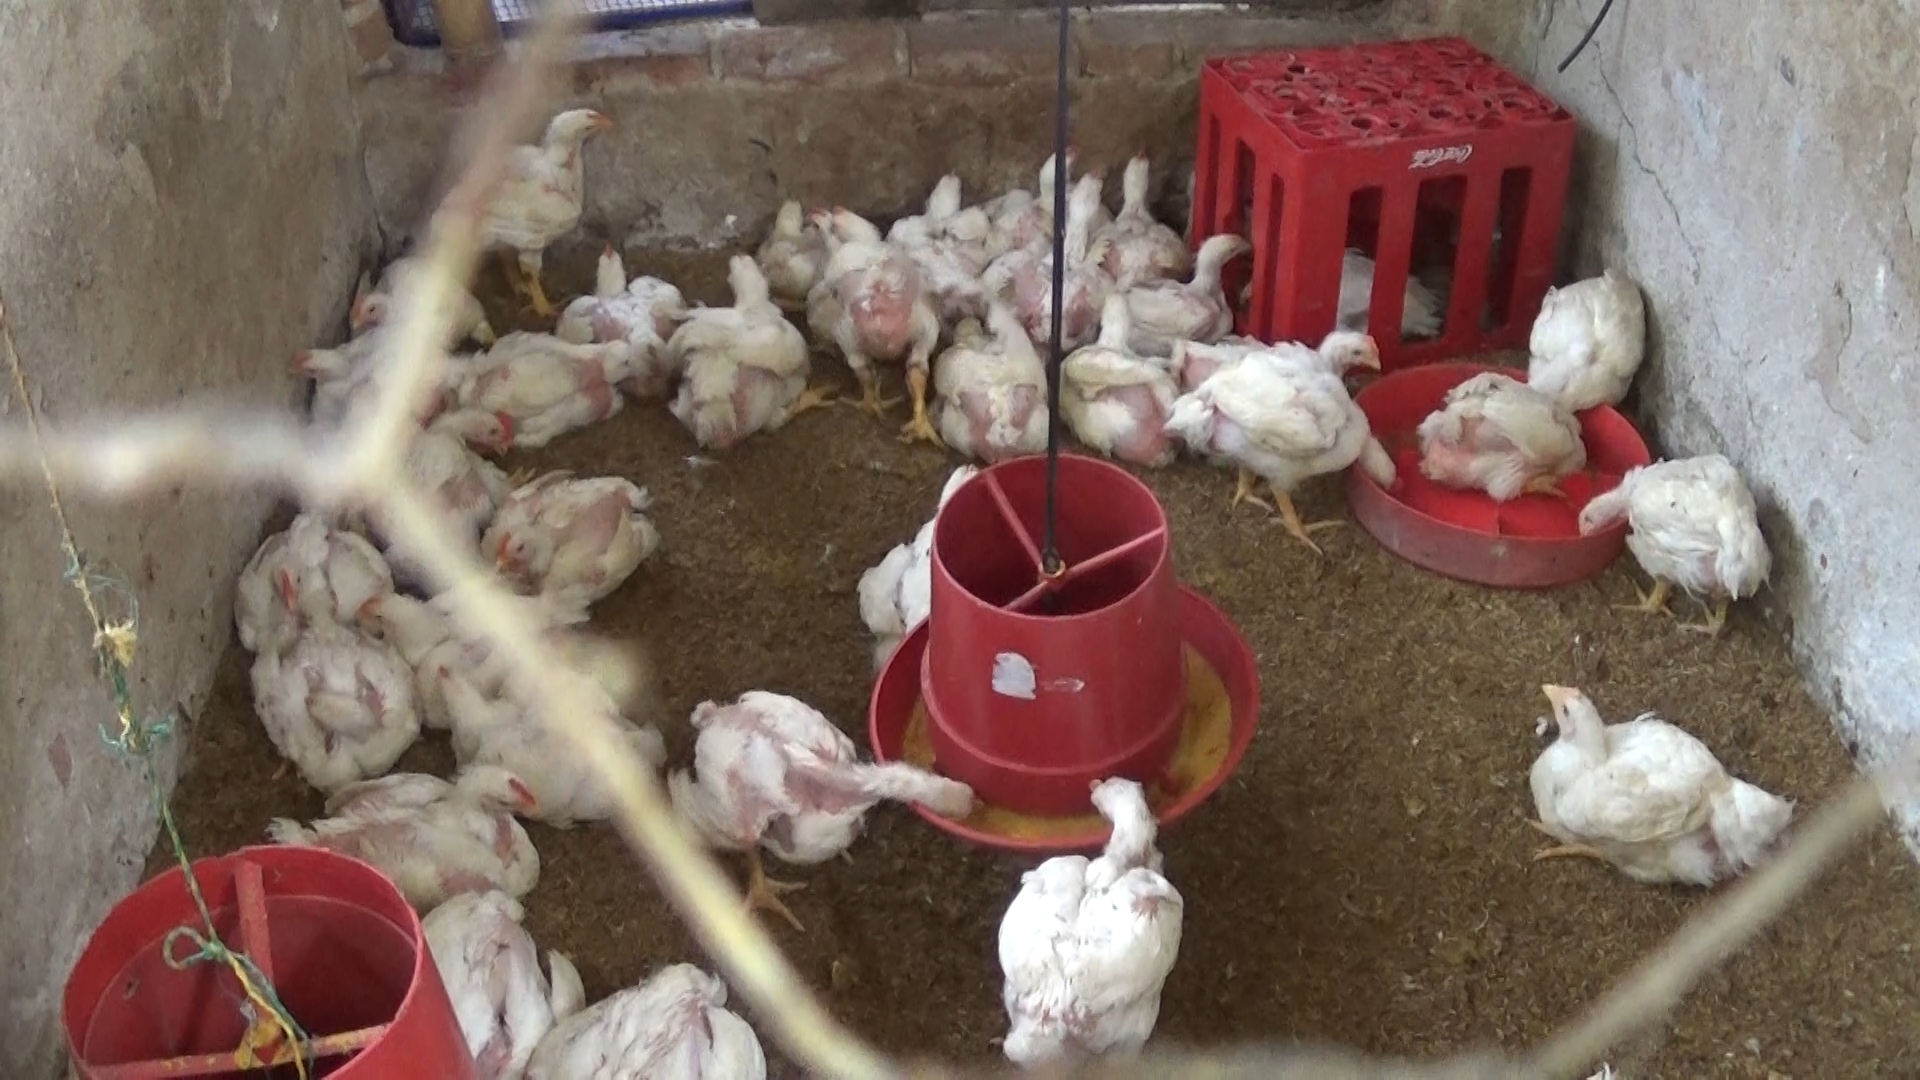Pollos: (662, 692, 985, 936), (1505, 665, 1803, 902), (972, 764, 1189, 1073), (1162, 323, 1396, 551), (262, 757, 549, 918), (237, 564, 423, 787), (1567, 444, 1776, 626), (407, 882, 596, 1080), (456, 105, 618, 328), (665, 235, 814, 446), (814, 195, 945, 433), (524, 953, 764, 1080), (431, 665, 632, 812), (1406, 359, 1600, 508), (351, 596, 568, 723), (844, 454, 989, 640), (220, 512, 409, 647), (916, 301, 1060, 479), (1513, 258, 1662, 419), (491, 467, 647, 611), (1054, 291, 1180, 463), (477, 319, 637, 448), (555, 241, 698, 385), (330, 232, 491, 355), (1015, 178, 1120, 336), (978, 138, 1100, 266), (1116, 232, 1259, 328), (421, 404, 527, 500), (1105, 150, 1191, 268), (891, 167, 982, 274), (756, 193, 835, 295), (284, 335, 375, 411)
